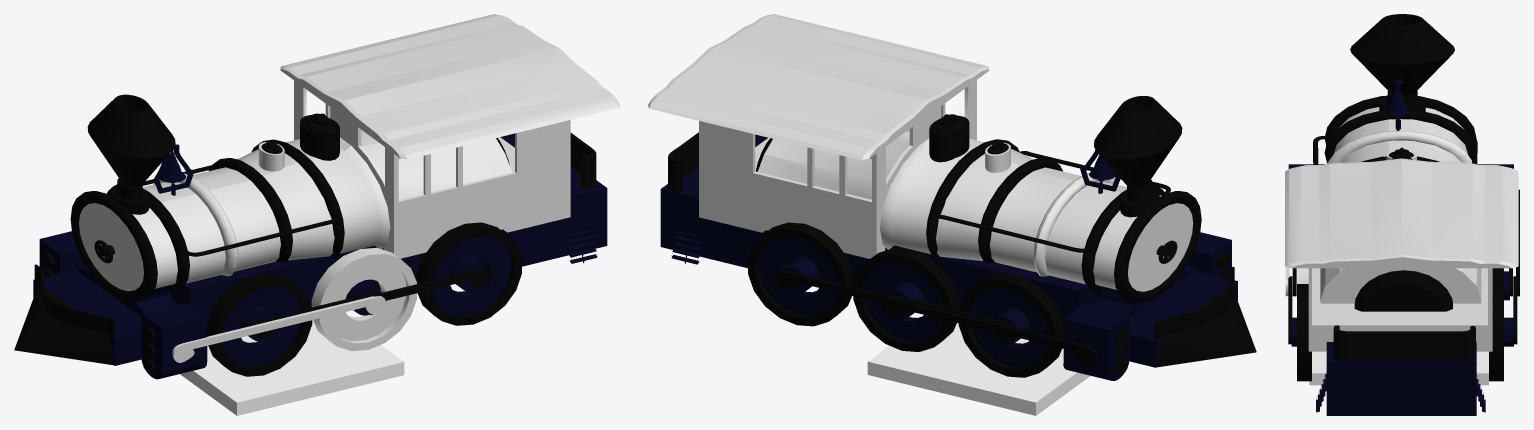
File: tren.DAE
3 renders of one model, left to right at view 1: azimuth 30°, elevation 25°; view 2: azimuth 150°, elevation 25°; view 3: azimuth 270°, elevation 25°, orthographic. The views are drawn at different scales.
Parts seen in each view (by area): view 1: ChamferCyl, Cylinder02, Tube13, Cylinder01, Box004, Cylinder05, Box01, Tube14, Tube01, Tube15, Tube04, Tube02 (+21 smaller); view 2: ChamferCyl, Cylinder02, Tube13, Cylinder01, Box004, Cylinder05, Box01, Tube08, Tube09, Tube11, Tube07, Tube12 (+22 smaller); view 3: ChamferCyl, Cylinder01, Cylinder02, Tube13, Line09, Cylinder05, ChamferCy0, Torus04, Cone01, Torus03, Torus05, Tube08 (+8 smaller).
Boxes of the visible parts, x1,y1,x2,y2 form: ChamferCyl: [280, 14, 619, 159]; Cylinder02: [79, 130, 511, 291]; Tube13: [294, 80, 570, 258]; Cylinder01: [33, 134, 607, 365]; Box004: [180, 320, 404, 415]; Cylinder05: [88, 94, 175, 158]; Box01: [14, 285, 114, 365]; Tube14: [416, 222, 521, 325]; Tube01: [207, 273, 312, 376]; Tube15: [432, 236, 510, 315]; Tube04: [311, 248, 416, 351]; Tube02: [222, 287, 301, 366]; ChamferCyl: [648, 14, 989, 160]; Cylinder02: [757, 129, 1193, 291]; Tube13: [699, 80, 976, 258]; Cylinder01: [660, 135, 1237, 367]; Box004: [867, 323, 1090, 415]; Cylinder05: [1094, 96, 1181, 159]; Box01: [1155, 287, 1256, 367]; Tube08: [748, 222, 853, 326]; Tube09: [853, 248, 959, 351]; Tube11: [958, 274, 1063, 377]; Tube07: [759, 236, 837, 316]; Tube12: [969, 287, 1048, 367]; ChamferCyl: [1285, 158, 1518, 268]; Cylinder01: [1326, 342, 1476, 415]; Cylinder02: [1320, 107, 1481, 303]; Tube13: [1308, 268, 1492, 351]; Line09: [1333, 325, 1475, 361]; Cylinder05: [1350, 14, 1454, 64]; ChamferCy0: [1354, 270, 1452, 311]; Torus04: [1324, 110, 1472, 162]; Cone01: [1350, 46, 1454, 95]; Torus03: [1327, 130, 1471, 163]; Torus05: [1325, 95, 1476, 144]; Tube08: [1489, 284, 1503, 381].
Bounding box in the file's own units: 418 × 167 × 209.
